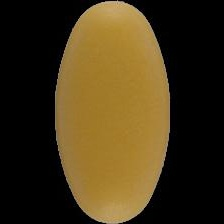65862-560: (0, 0, 224, 224)
